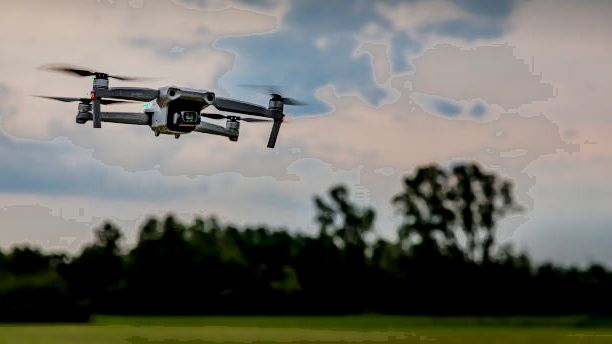Drone: (33, 59, 309, 153)
